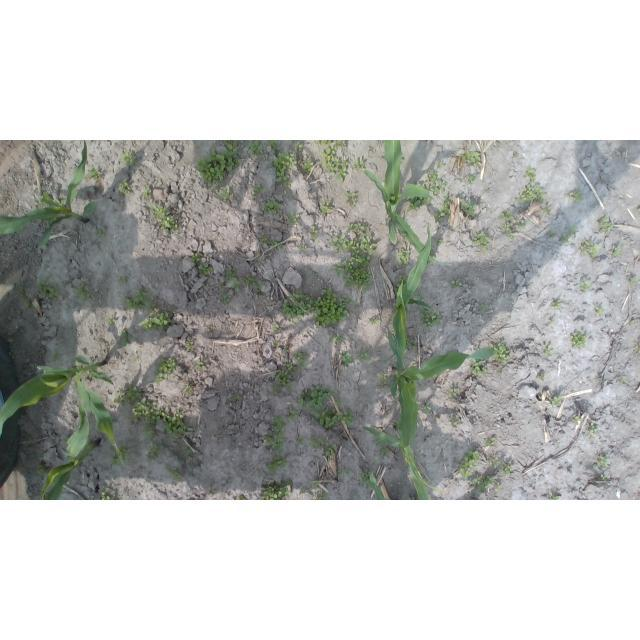Maize: (381, 325, 501, 494), (1, 355, 128, 467), (360, 141, 454, 268), (1, 141, 98, 248), (393, 220, 433, 394), (40, 397, 100, 498), (361, 424, 431, 500), (366, 461, 391, 500)
Weeds: (331, 223, 378, 292), (197, 141, 242, 184), (313, 287, 355, 327), (280, 290, 315, 323), (297, 384, 336, 413), (320, 145, 349, 183), (273, 148, 298, 188), (272, 360, 297, 397), (131, 398, 165, 425), (147, 203, 177, 233), (263, 415, 287, 452), (457, 446, 483, 480), (121, 290, 156, 314), (162, 410, 189, 439), (261, 478, 292, 500), (141, 312, 171, 333), (422, 170, 447, 195), (113, 384, 142, 405), (36, 275, 60, 300), (154, 358, 176, 385), (517, 183, 548, 202), (310, 436, 337, 457), (315, 408, 340, 429), (434, 195, 453, 222), (490, 340, 510, 364), (500, 209, 516, 239), (110, 444, 131, 466), (419, 308, 441, 329), (581, 239, 604, 259), (17, 284, 34, 310), (266, 454, 288, 474), (73, 283, 95, 302), (459, 194, 478, 216), (260, 197, 283, 215), (472, 475, 495, 493), (407, 196, 431, 212), (119, 149, 138, 168), (472, 232, 489, 253), (470, 358, 489, 376), (460, 150, 480, 167), (597, 214, 613, 235), (241, 274, 263, 288), (570, 331, 587, 349), (393, 274, 408, 294), (561, 226, 579, 242), (247, 140, 263, 157), (294, 352, 310, 369), (340, 408, 356, 425), (565, 190, 584, 204), (118, 178, 133, 194), (356, 349, 373, 363), (120, 329, 133, 347), (164, 468, 182, 481), (146, 444, 158, 463), (142, 425, 157, 440), (286, 407, 300, 423), (397, 248, 410, 265), (585, 422, 598, 439), (405, 333, 417, 351), (220, 187, 234, 202), (319, 199, 332, 215), (594, 456, 610, 469), (487, 455, 501, 469), (86, 168, 101, 181), (287, 212, 302, 225), (524, 167, 537, 182), (548, 395, 564, 407), (580, 277, 593, 291), (341, 351, 353, 366), (360, 469, 370, 486), (330, 333, 347, 343), (541, 345, 554, 358), (344, 191, 356, 205), (198, 263, 212, 275), (218, 292, 232, 304), (502, 461, 514, 475), (93, 492, 111, 501), (185, 336, 195, 352), (352, 158, 364, 171), (252, 185, 263, 199), (303, 158, 314, 172), (336, 469, 352, 478), (141, 187, 152, 200), (292, 141, 303, 154), (271, 239, 284, 250), (225, 268, 236, 281), (375, 436, 388, 447), (309, 224, 319, 238), (231, 278, 241, 292), (483, 437, 497, 447), (313, 492, 330, 500), (380, 373, 389, 388), (258, 234, 269, 246), (195, 359, 206, 371), (571, 415, 584, 425), (333, 141, 347, 150), (49, 351, 59, 363), (37, 465, 47, 477), (53, 199, 67, 207), (190, 252, 200, 263), (105, 315, 116, 325), (183, 383, 193, 394), (467, 174, 478, 184), (451, 279, 463, 288), (612, 244, 621, 256), (548, 492, 561, 500), (379, 447, 389, 457), (517, 220, 528, 229), (423, 403, 432, 414), (448, 416, 457, 427), (633, 340, 640, 354), (266, 140, 278, 148), (315, 140, 331, 146), (368, 317, 381, 324), (183, 446, 192, 456), (449, 388, 458, 398), (595, 306, 604, 316), (550, 227, 558, 238), (407, 493, 419, 500), (98, 229, 107, 238), (414, 291, 423, 300), (552, 300, 561, 309), (84, 370, 93, 379), (116, 276, 126, 284), (296, 436, 304, 446), (300, 488, 310, 496), (392, 419, 400, 429), (543, 204, 551, 214), (231, 396, 242, 403), (212, 184, 220, 193), (298, 244, 307, 252), (207, 487, 215, 496), (311, 481, 320, 489), (435, 238, 443, 247), (598, 474, 607, 482), (547, 317, 557, 324), (630, 278, 640, 285), (617, 376, 627, 383), (335, 398, 343, 406), (537, 373, 545, 381), (273, 325, 280, 334), (436, 162, 445, 169), (131, 354, 138, 363), (237, 495, 248, 500), (312, 271, 321, 277), (401, 234, 407, 243), (218, 282, 226, 288), (255, 289, 262, 295), (63, 437, 69, 444), (283, 346, 290, 352), (479, 305, 486, 311), (629, 320, 636, 326), (204, 252, 212, 257), (347, 497, 359, 500), (412, 182, 421, 186), (103, 343, 109, 349), (119, 493, 124, 500), (63, 280, 69, 285), (514, 152, 519, 157), (495, 141, 500, 146), (273, 342, 279, 346), (57, 214, 65, 217), (193, 424, 199, 428), (637, 205, 640, 212), (132, 140, 137, 142)
